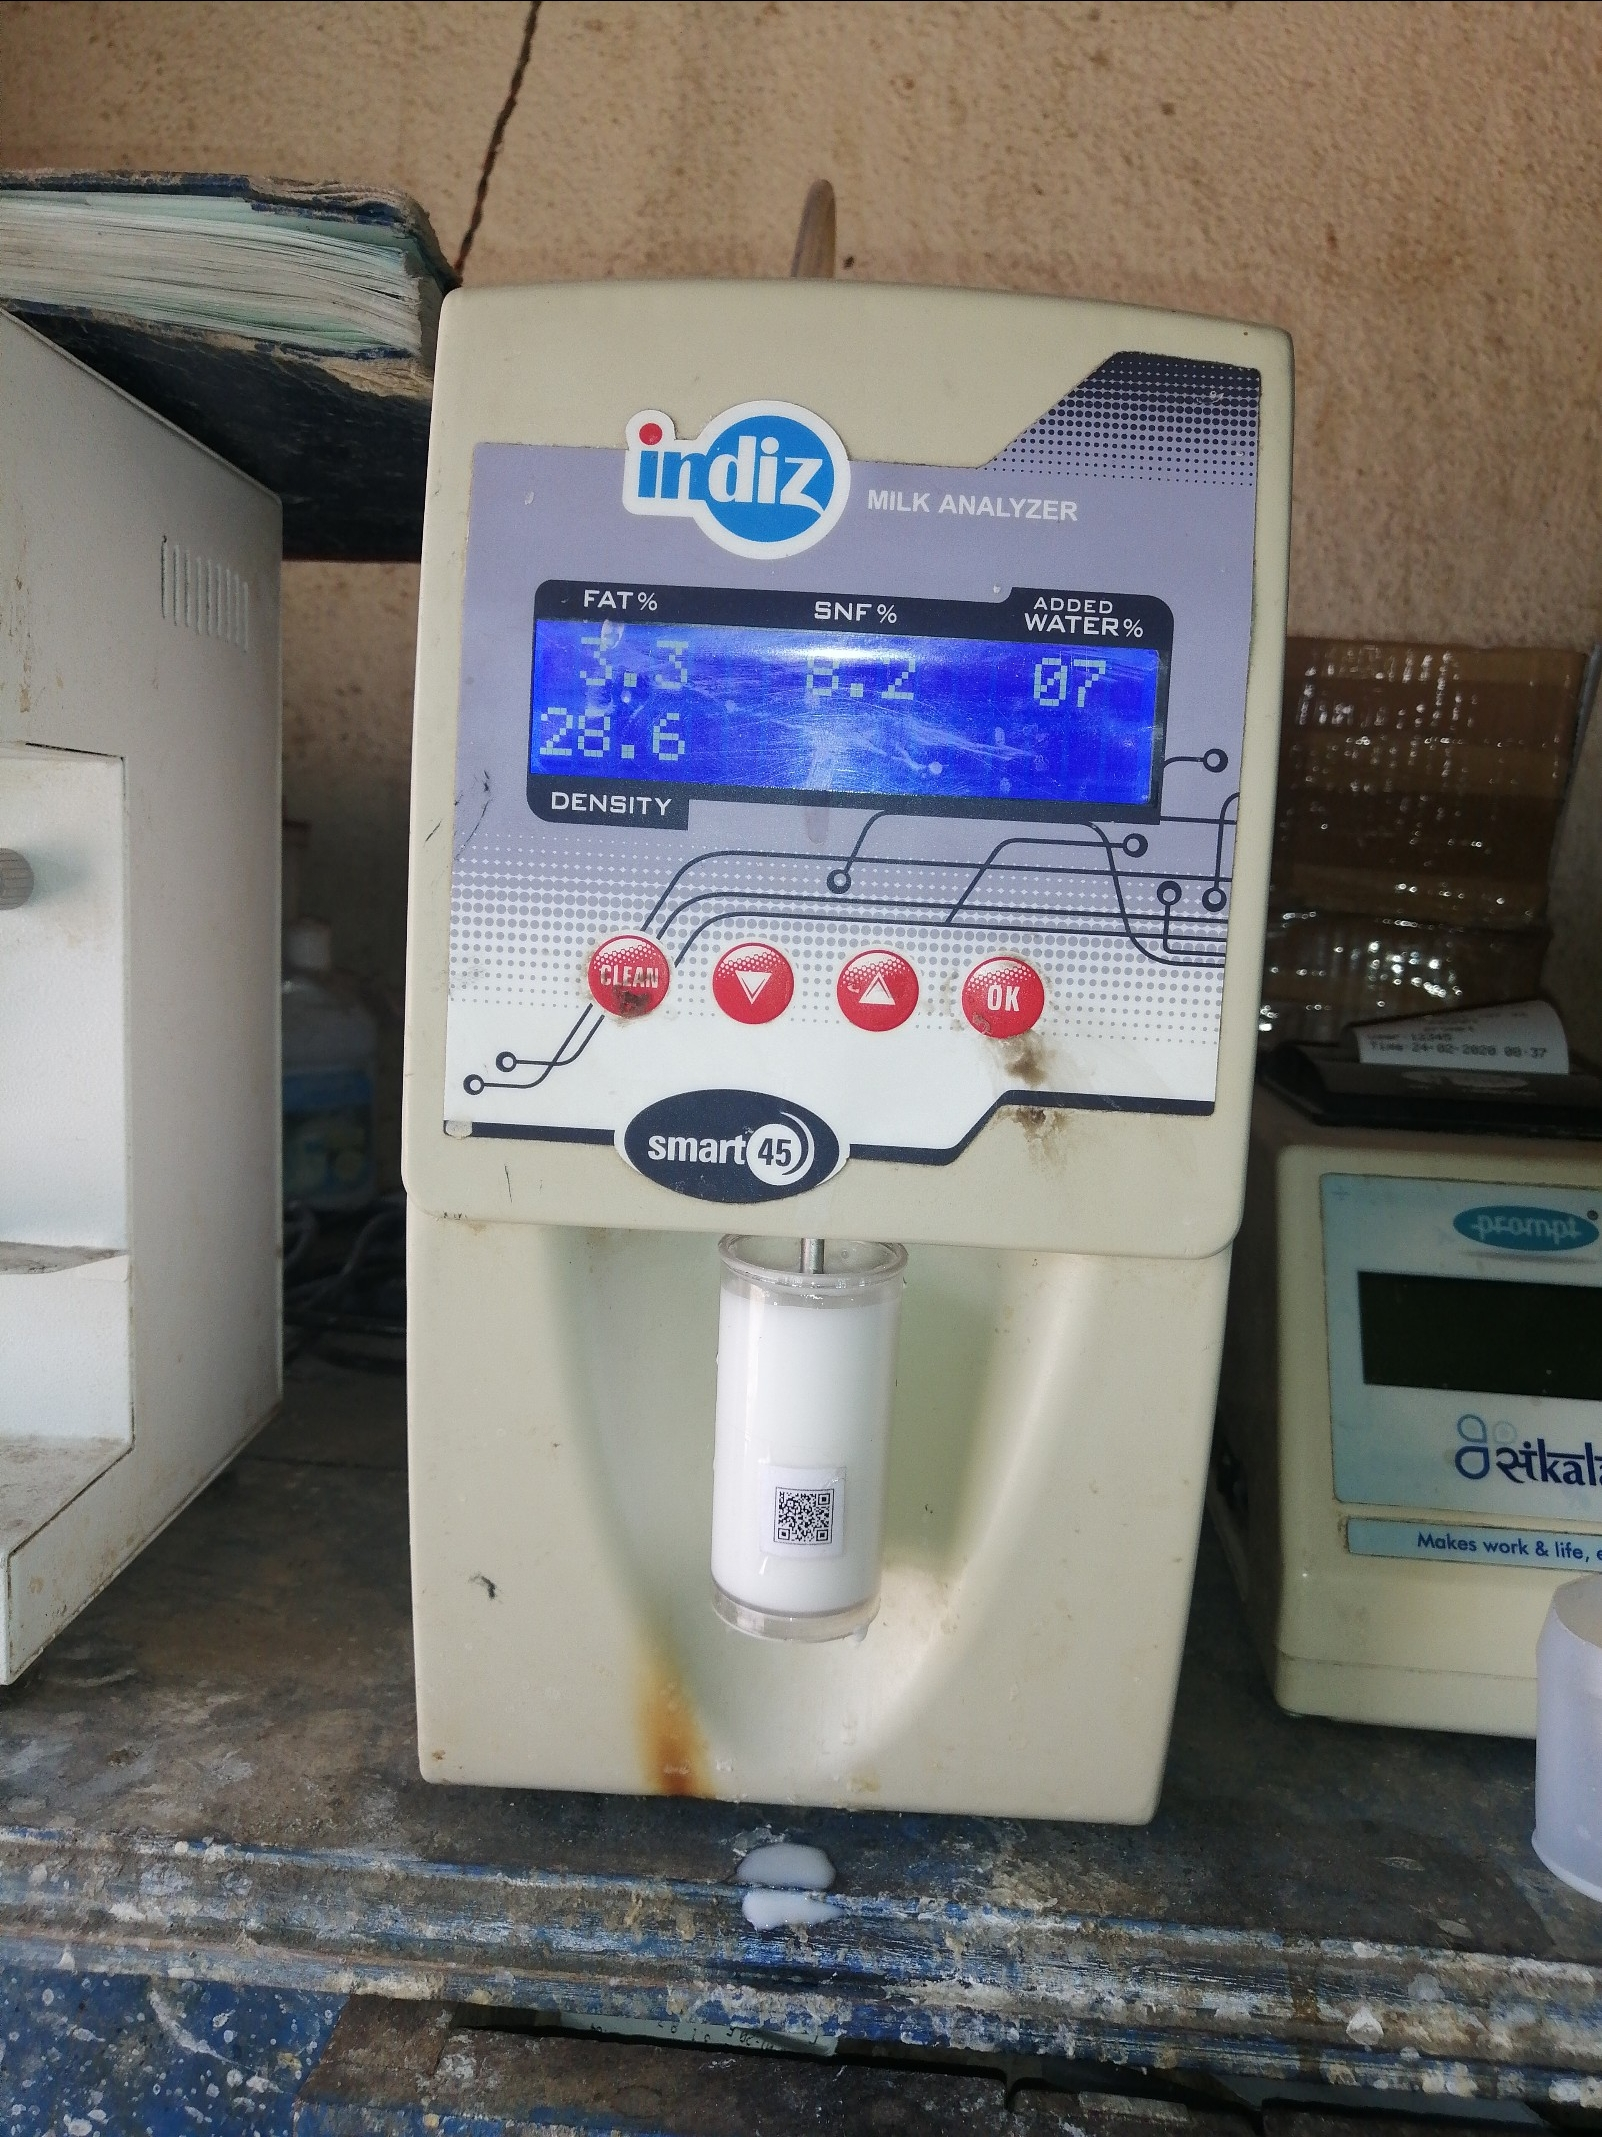lcd: (518, 592, 1180, 831)
qr: (762, 1477, 845, 1558)
